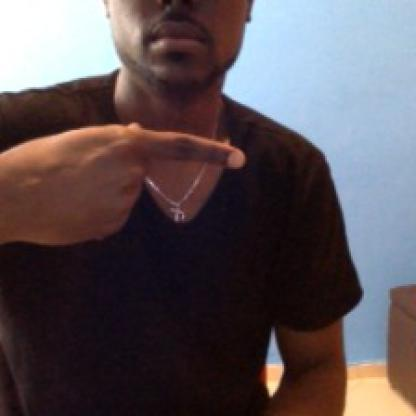TURN LEFT: (0, 115, 252, 268)
